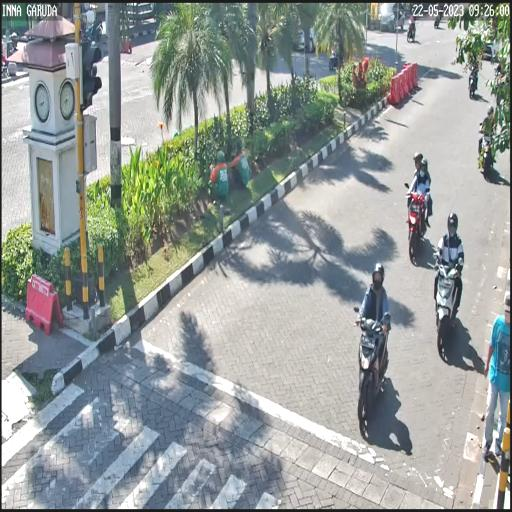motor: (353, 300, 392, 440), (432, 247, 465, 357), (403, 176, 433, 262)
